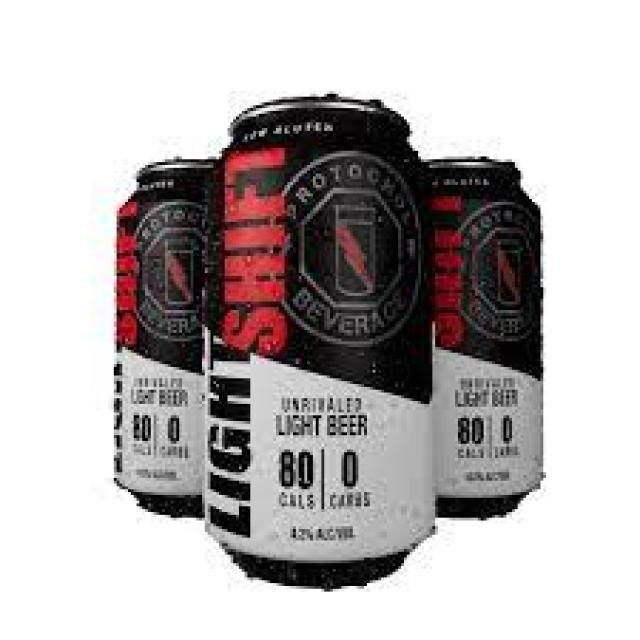Cans: (194, 82, 446, 594)
